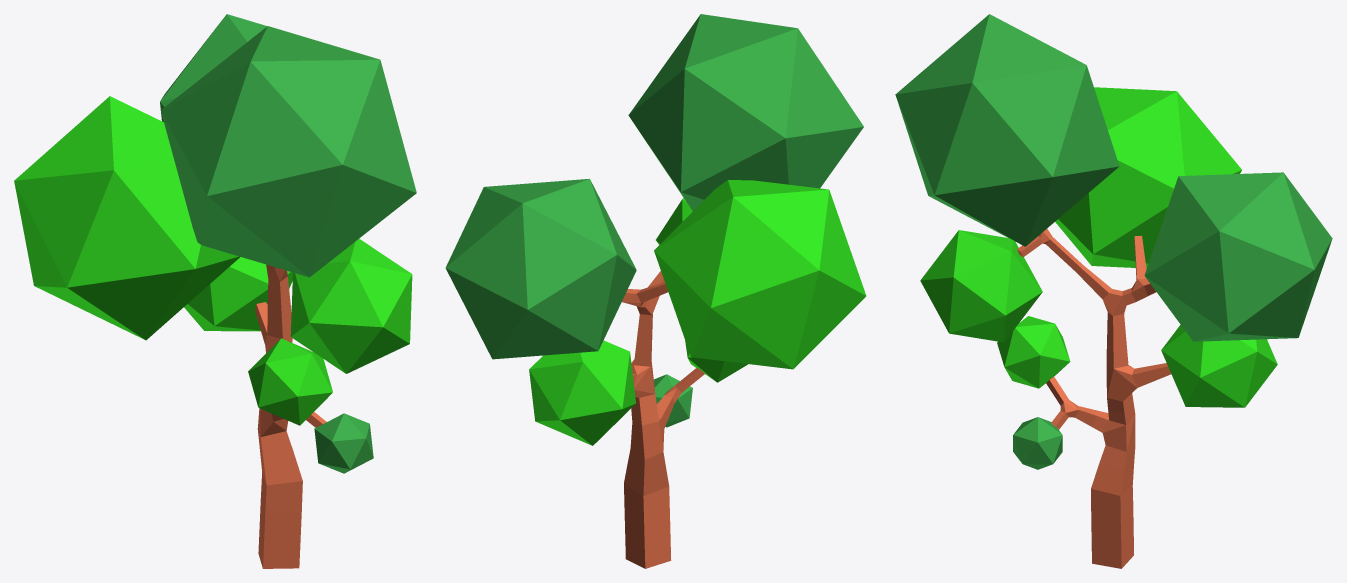
The model's file is arvore4.glb.
3 views of the same model, side by side, from view 1: azimuth 30°, elevation 25°; view 2: azimuth 150°, elevation 25°; view 3: azimuth 270°, elevation 25° (orthographic). The views are drawn at different scales.
Visible parts, largest first — view 1: Icosphere.019, Icosphere.020, Icosphere.018, Arvore 4, Icosphere.015, Icosphere.016, Icosphere.017, Icosphere.014; view 2: Icosphere.019, Icosphere.020, Icosphere.017, Arvore 4, Icosphere.016, Icosphere.014, Icosphere.015, Icosphere.018; view 3: Icosphere.019, Icosphere.017, Icosphere.020, Arvore 4, Icosphere.018, Icosphere.016, Icosphere.015, Icosphere.014.
Part boxes in pixels (<box>): Icosphere.019: <box>160,26,416,277</box>; Icosphere.020: <box>14,96,240,340</box>; Icosphere.018: <box>290,238,412,373</box>; Arvore 4: <box>255,264,326,568</box>; Icosphere.015: <box>248,338,332,425</box>; Icosphere.016: <box>184,257,292,331</box>; Icosphere.017: <box>160,14,267,121</box>; Icosphere.014: <box>314,413,373,473</box>; Icosphere.019: <box>628,14,863,210</box>; Icosphere.020: <box>654,180,866,369</box>; Icosphere.017: <box>445,178,636,359</box>; Arvore 4: <box>622,271,704,568</box>; Icosphere.016: <box>529,340,635,445</box>; Icosphere.014: <box>653,374,692,427</box>; Icosphere.015: <box>685,340,748,382</box>; Icosphere.018: <box>656,198,692,244</box>; Icosphere.019: <box>895,14,1119,246</box>; Icosphere.017: <box>1144,172,1332,341</box>; Icosphere.020: <box>1055,87,1241,268</box>; Arvore 4: <box>1017,228,1171,568</box>; Icosphere.018: <box>920,230,1042,342</box>; Icosphere.016: <box>1161,324,1277,407</box>; Icosphere.015: <box>997,316,1070,388</box>; Icosphere.014: <box>1013,417,1062,469</box>.
Bounding box in the file's own units: 5.84 × 8.65 × 6.8.
